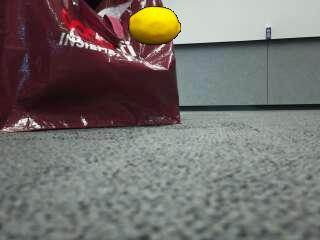lemon: (130, 7, 181, 44)
